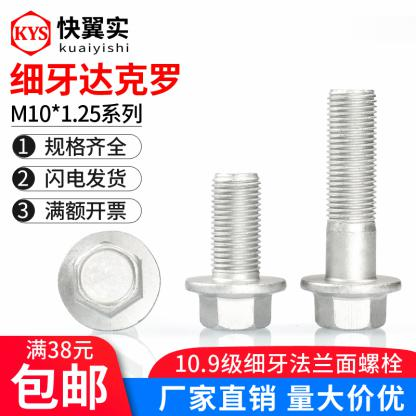FOD: (299, 87, 402, 331), (184, 168, 289, 332), (56, 228, 162, 333)
